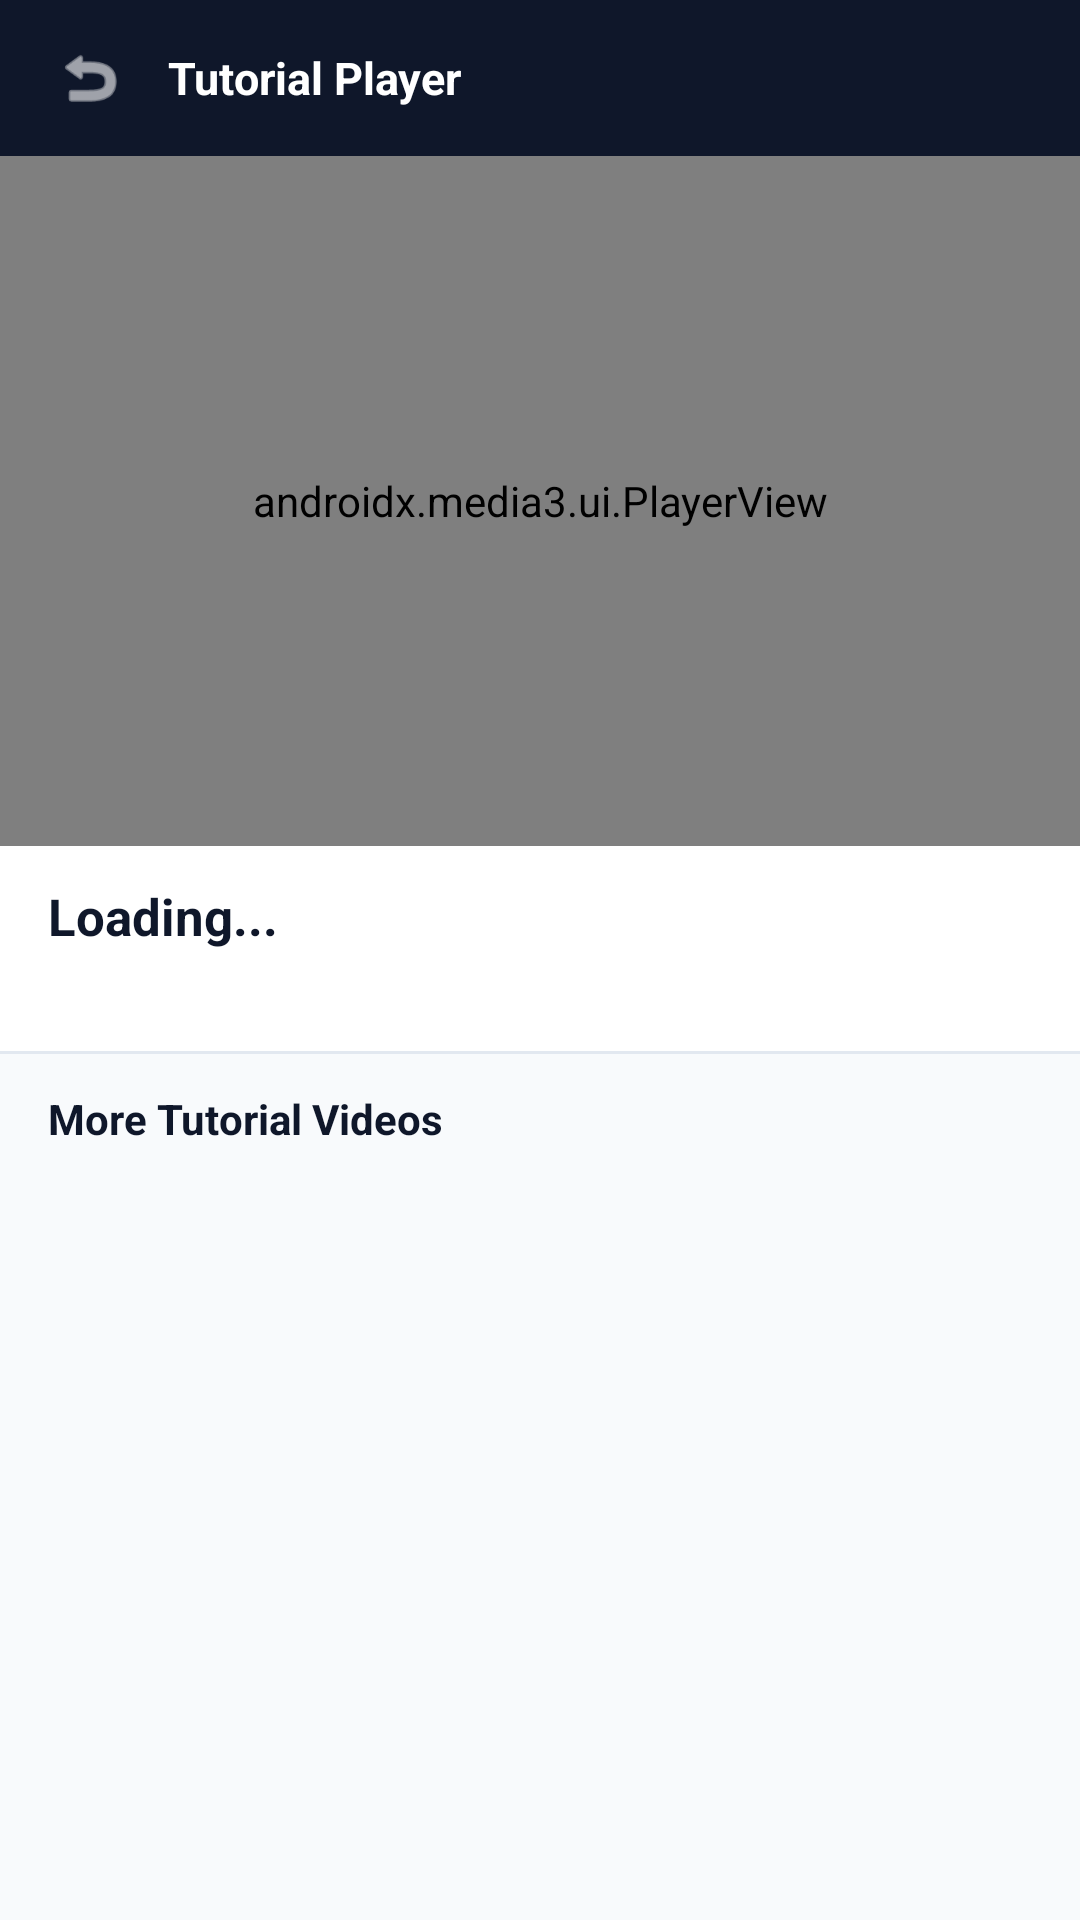

Named icons in this screenshot (1080w x 1920h) and their centers, [x,y]:
revert: [91,78]
